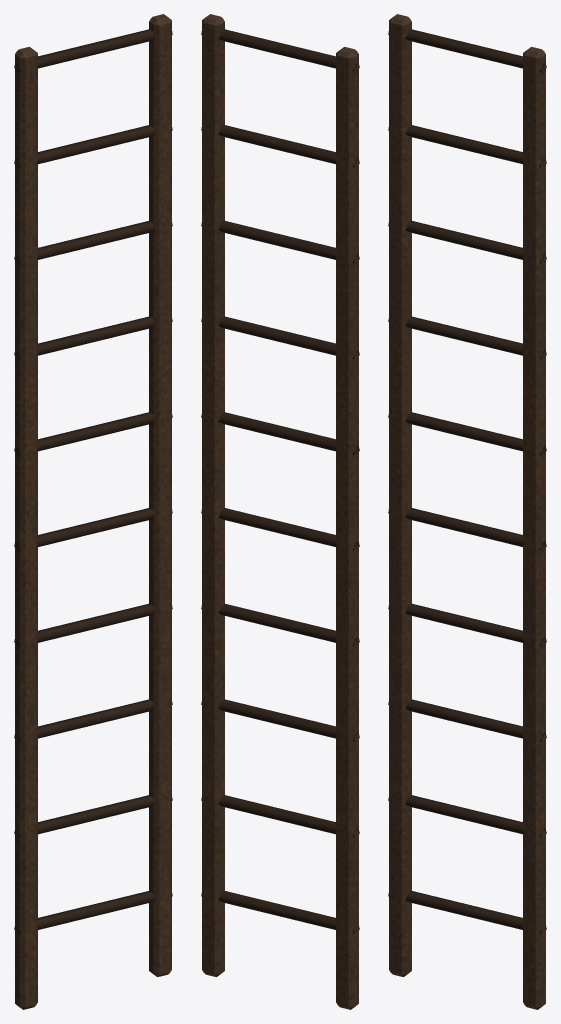
The model's file is ladder_lod1.glb.
The picture shows the model from 3 angles, left to right: view 1: azimuth 30°, elevation 25°; view 2: azimuth 150°, elevation 25°; view 3: azimuth 330°, elevation 25°; orthographic projection.
Visible parts, largest first — view 1: ladder; view 2: ladder; view 3: ladder.
Part boxes in pixels (bbox=[...]): ladder: bbox=[14, 14, 172, 1009]; ladder: bbox=[201, 14, 359, 1009]; ladder: bbox=[388, 14, 546, 1009].
Bounding box in the file's own units: 0.5 × 3 × 0.05.
Materials: 1 (1 with a texture image).
